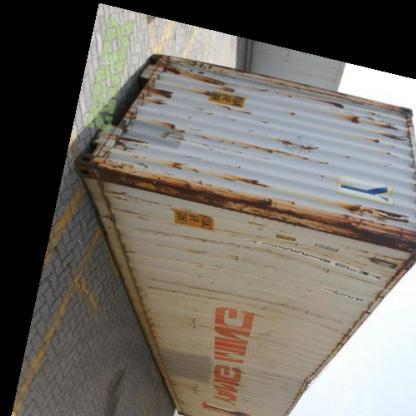Damage: (84, 129, 238, 214), (246, 188, 416, 252), (146, 66, 258, 106), (345, 109, 403, 147), (278, 138, 328, 171), (186, 309, 204, 334)
